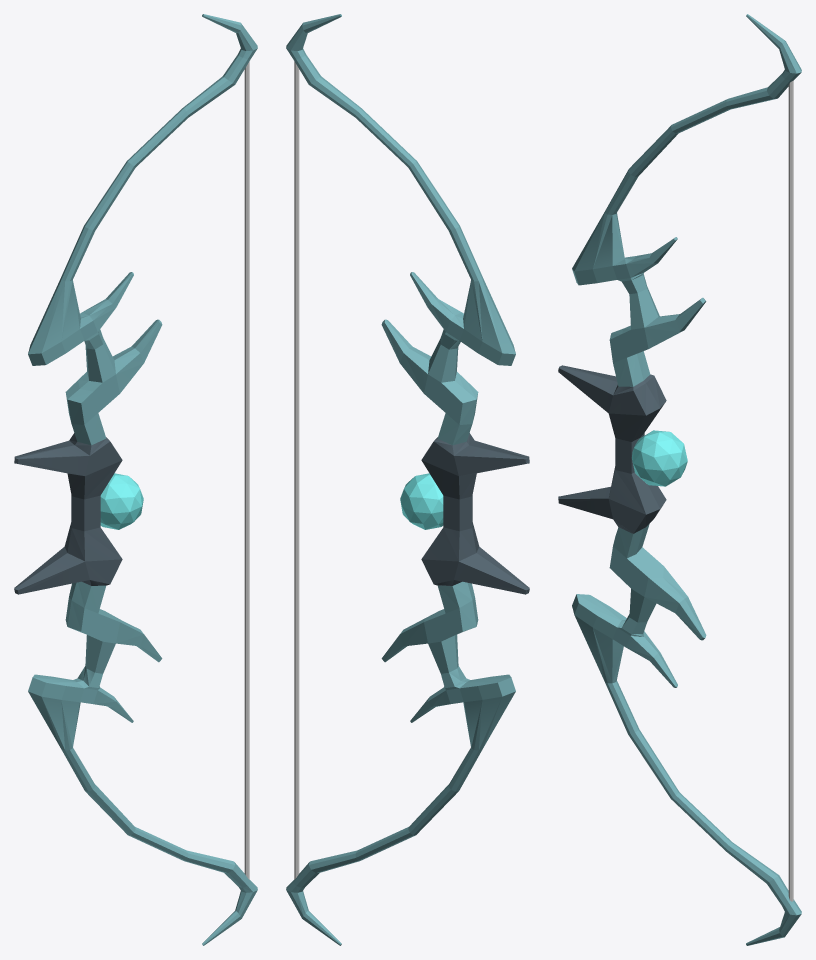
Rendered from arco_runico.glb.
3 renders of one model, left to right at view 1: azimuth 30°, elevation 25°; view 2: azimuth 150°, elevation 25°; view 3: azimuth 330°, elevation 25°, orthographic.
Visible parts, largest first — view 1: arco_runico; view 2: arco_runico; view 3: arco_runico.
Part boxes in pixels (box(x1,y1,x2,y2)): arco_runico: box(14, 14, 257, 945); arco_runico: box(286, 14, 529, 945); arco_runico: box(558, 14, 801, 945).
Size of the model in its own units: 1.56 by 5.69 by 0.32.
